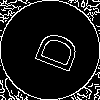D: (25, 25, 81, 75)
